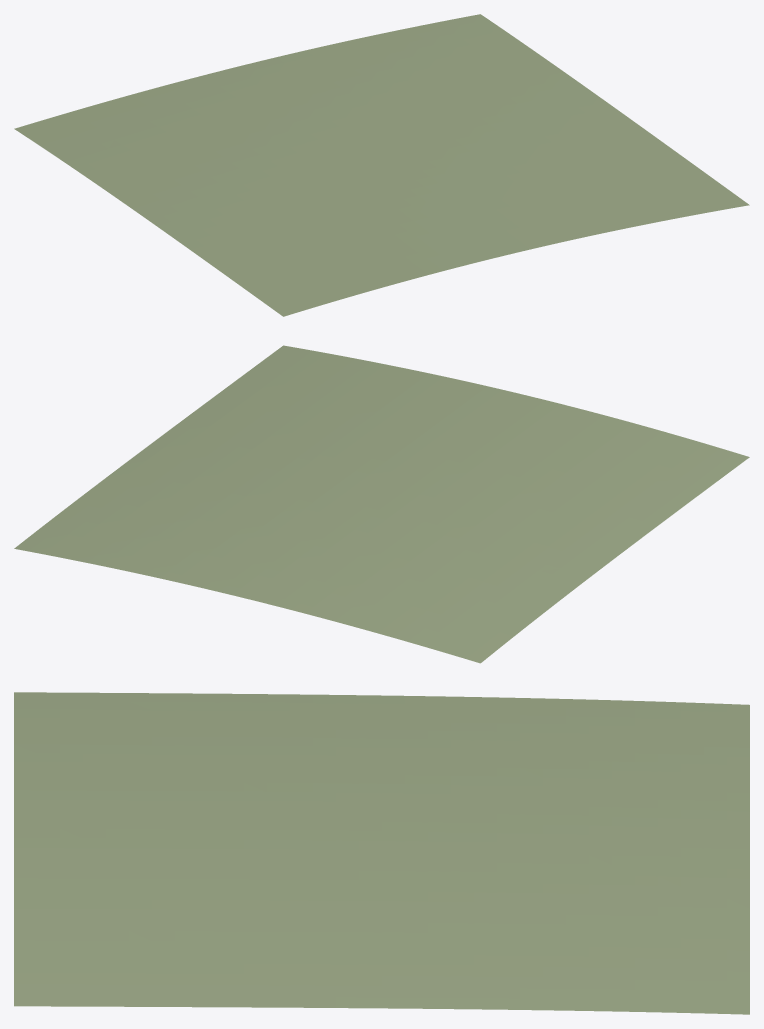
Rendered from valley-15-10.glb.
3 views of the same model, one above another, from view 1: azimuth 30°, elevation 25°; view 2: azimuth 150°, elevation 25°; view 3: azimuth 270°, elevation 25° (orthographic). The views are drawn at different scales.
Visible parts, largest first — view 1: valley-15-10; view 2: valley-15-10; view 3: valley-15-10.
Part boxes in pixels (x1,y1,x2,y2): valley-15-10: (14, 14, 749, 316); valley-15-10: (14, 345, 749, 663); valley-15-10: (14, 692, 749, 1014).
Bounding box in the file's own units: 256 × 8.6 × 256.
